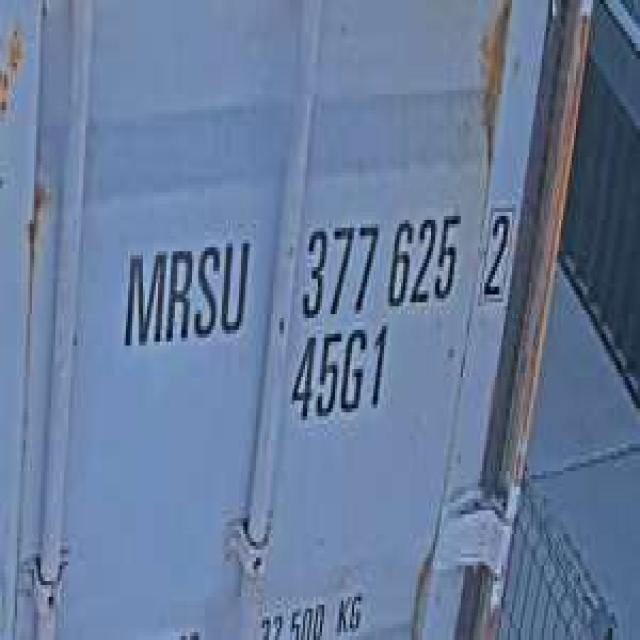dv: (476, 196, 516, 306)
owner: (117, 224, 252, 357)
serial: (294, 200, 463, 322)
size: (284, 322, 392, 428)
